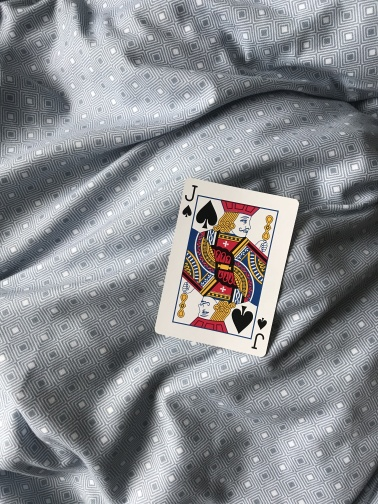jack: (153, 177, 301, 358)
